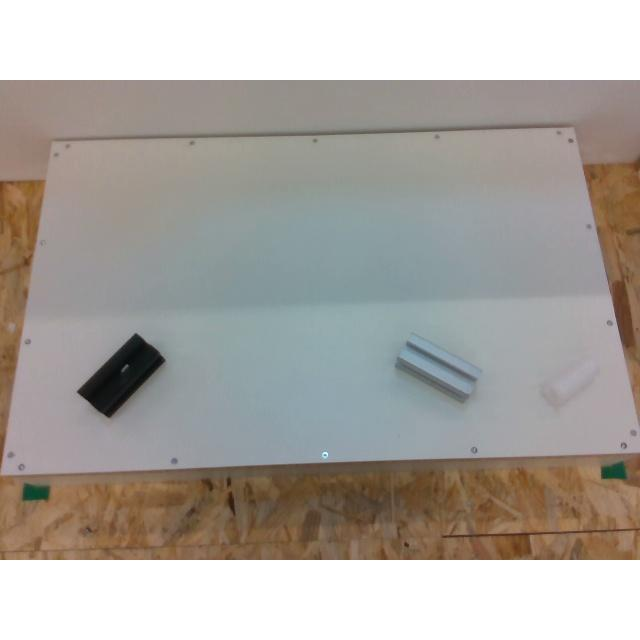S40_40_B: (78, 332, 164, 416)
S40_40_G: (396, 333, 480, 401)
Spacer: (540, 358, 598, 406)
